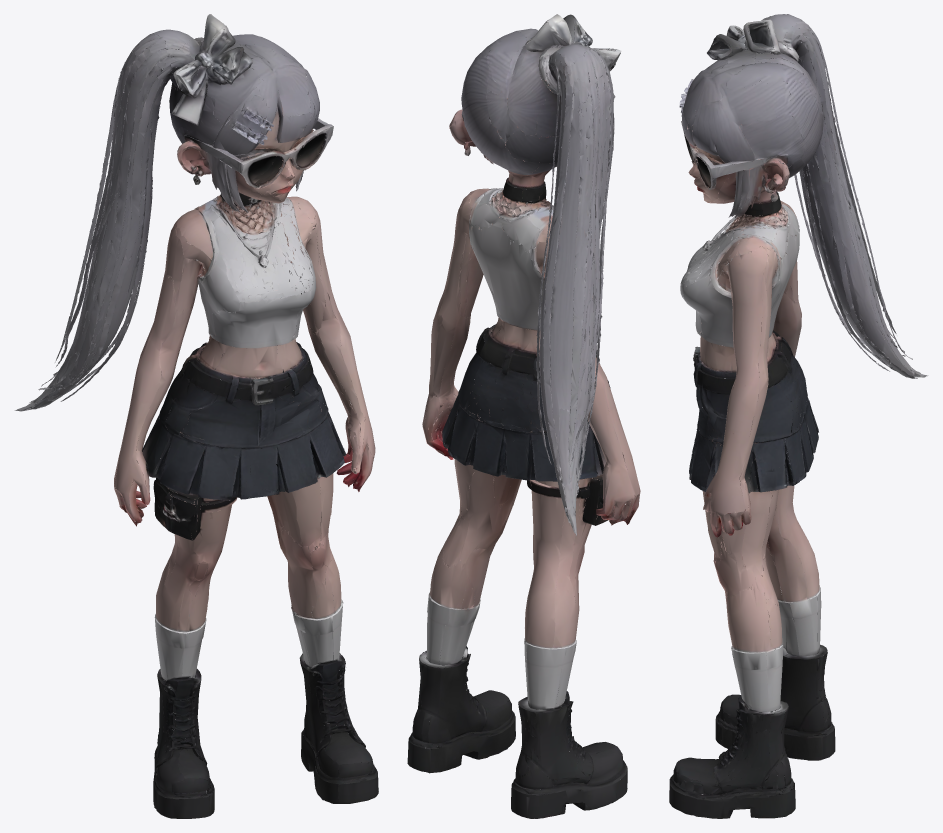
The model's file is home-character-308a48d7.glb.
3 renders of one model, left to right at view 1: azimuth 30°, elevation 25°; view 2: azimuth 150°, elevation 25°; view 3: azimuth 270°, elevation 25°, orthographic. The views are drawn at different scales.
Visible parts, largest first — view 1: 替换角色1; view 2: 替换角色1; view 3: 替换角色1.
Boxes of the visible parts, left/top/right/bottom form: 替换角色1: left=14, top=14, right=378, bottom=818; 替换角色1: left=407, top=14, right=640, bottom=818; 替换角色1: left=669, top=14, right=928, bottom=818.
Bounding box in the file's own units: 0.3851 × 1.13 × 0.3587.
1 material, 1 textured.
